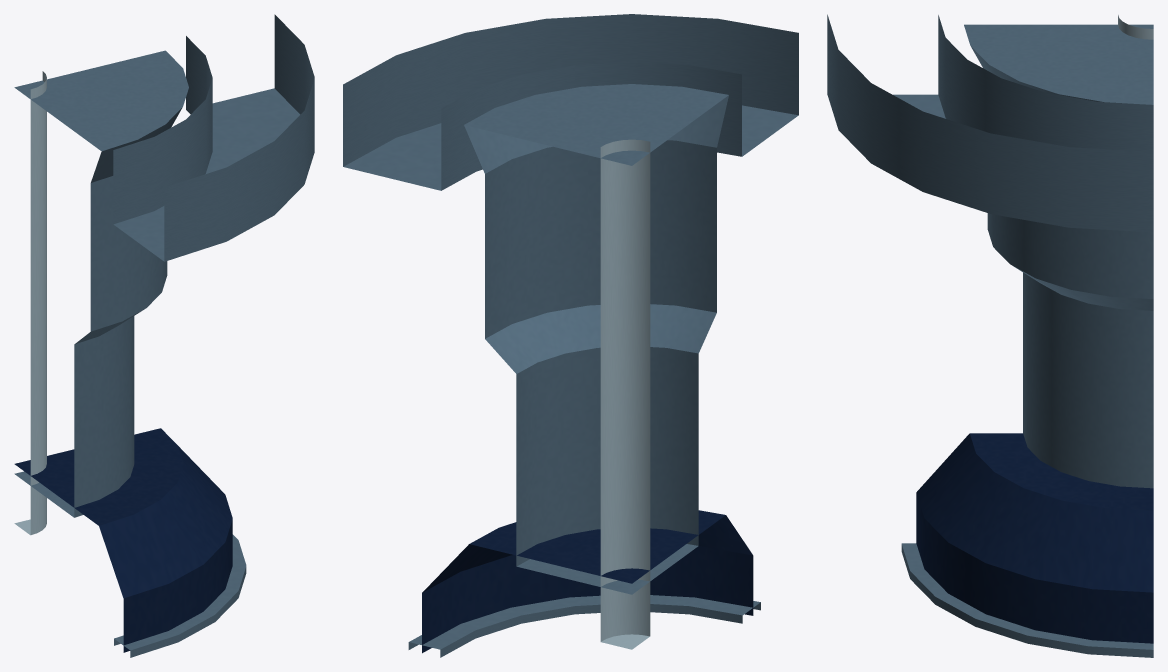
Rendered from cell_11.obj.
3 views of the same model, side by side, from view 1: azimuth 30°, elevation 25°; view 2: azimuth 150°, elevation 25°; view 3: azimuth 270°, elevation 25° (orthographic). The views are drawn at different scales.
Visible parts, largest first — view 1: cell_11; view 2: cell_11; view 3: cell_11.
Part boxes in pixels (x1=…): cell_11: x1=14, y1=14, x2=314, y2=657; cell_11: x1=343, y1=14, x2=798, y2=657; cell_11: x1=827, y1=14, x2=1153, y2=657.
Bounding box in the file's own units: 0.55 × 1 × 0.55.
